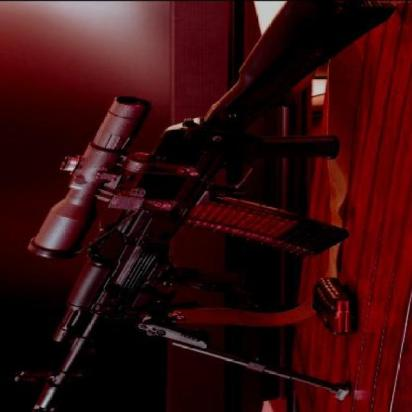Gun: (25, 22, 350, 412)
